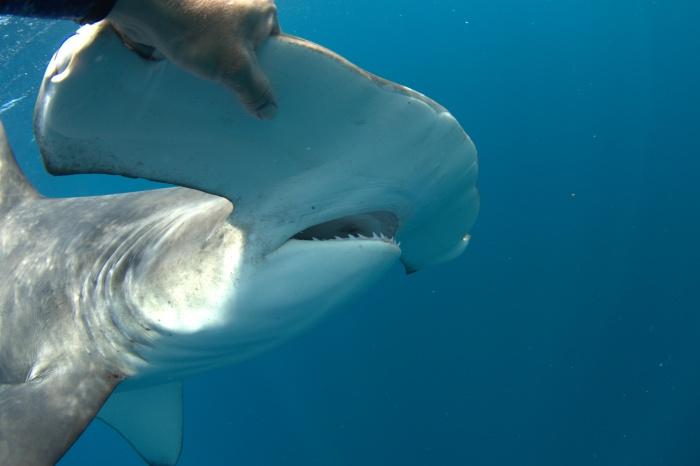Hammer: (1, 10, 521, 464)
